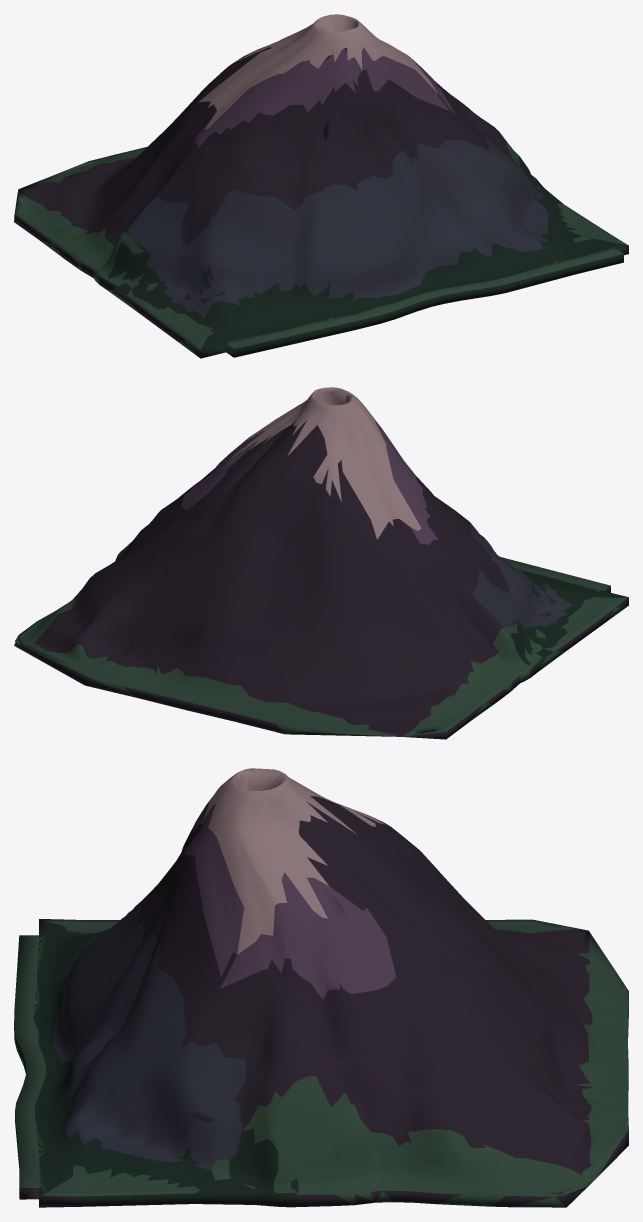
The model's file is volcano1.0.gltf.
3 renders of one model, top to bottom at view 1: azimuth 30°, elevation 25°; view 2: azimuth 150°, elevation 25°; view 3: azimuth 270°, elevation 25°, orthographic. The views are drawn at different scales.
Visible parts, largest first — view 1: volcano scaled up dec; view 2: volcano scaled up dec; view 3: volcano scaled up dec.
Boxes of the visible parts, left/top/right/bottom form: volcano scaled up dec: left=14, top=14, right=628, bottom=358; volcano scaled up dec: left=14, top=387, right=628, bottom=739; volcano scaled up dec: left=14, top=768, right=628, bottom=1207.
Size of the model in its own units: 99.93 by 49.35 by 93.53.
1 material, 1 textured.
